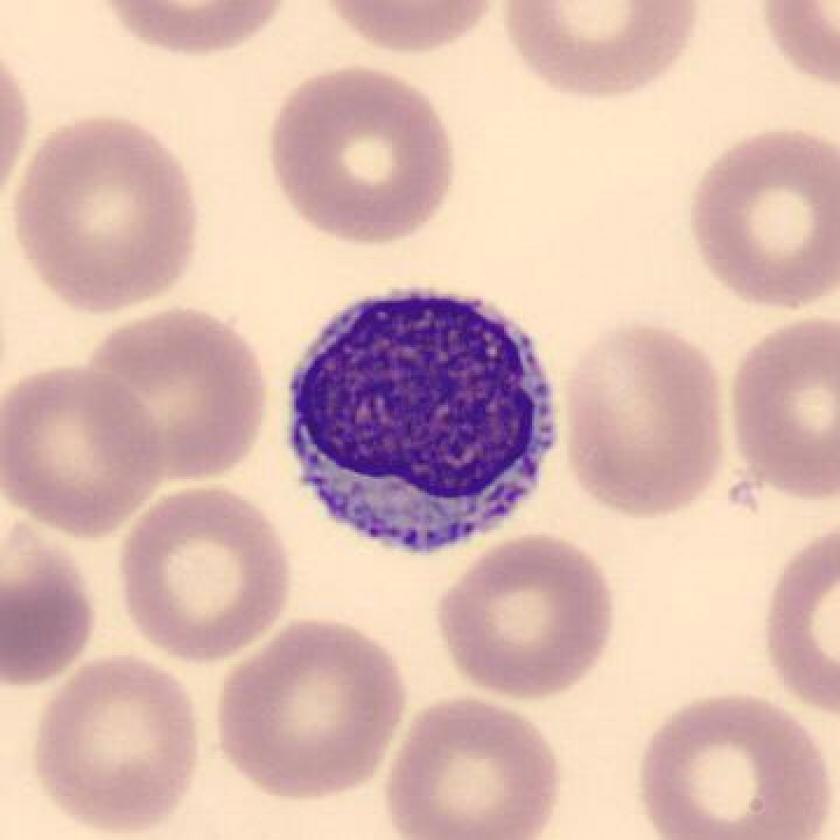lymphocyte: (272, 267, 568, 573)
